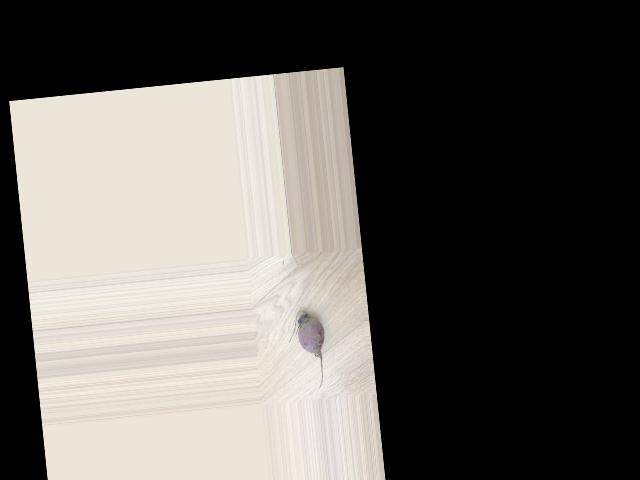beet: (286, 309, 330, 391)
